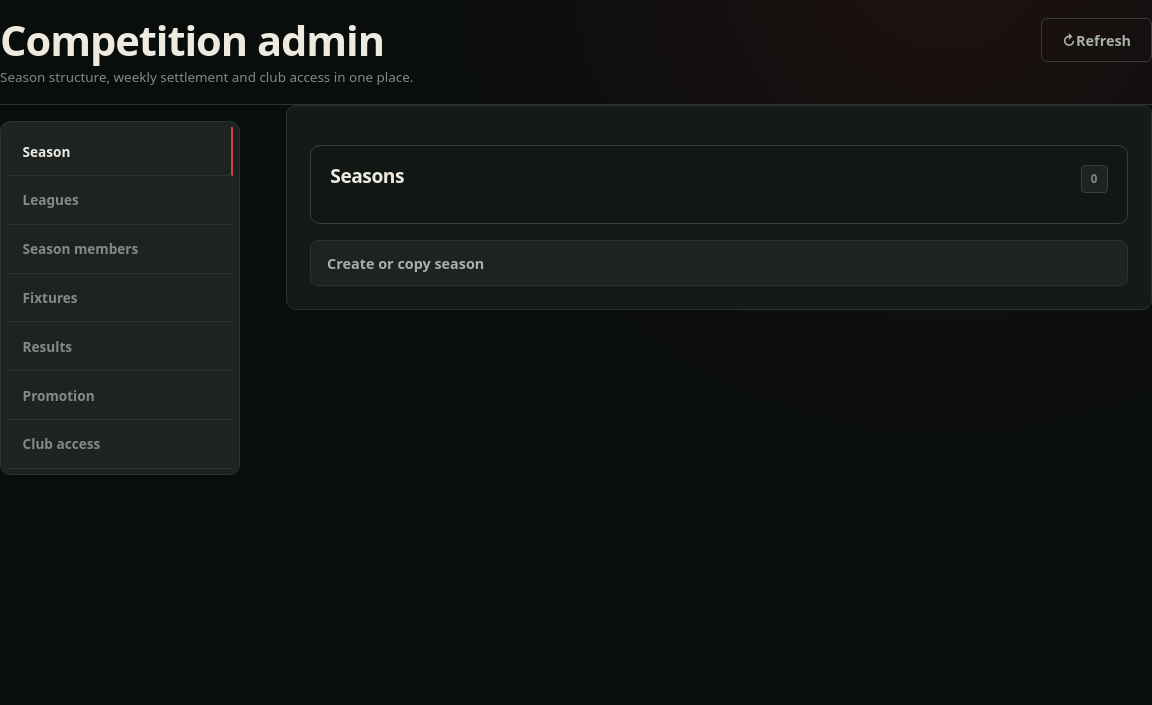
ADM-009 master administrator UI protection › shows a protected master administrator but does not offer destructive role/status controls
Click the tab "Club access". click: (120, 444)
box: left=7, top=420, right=233, bottom=469
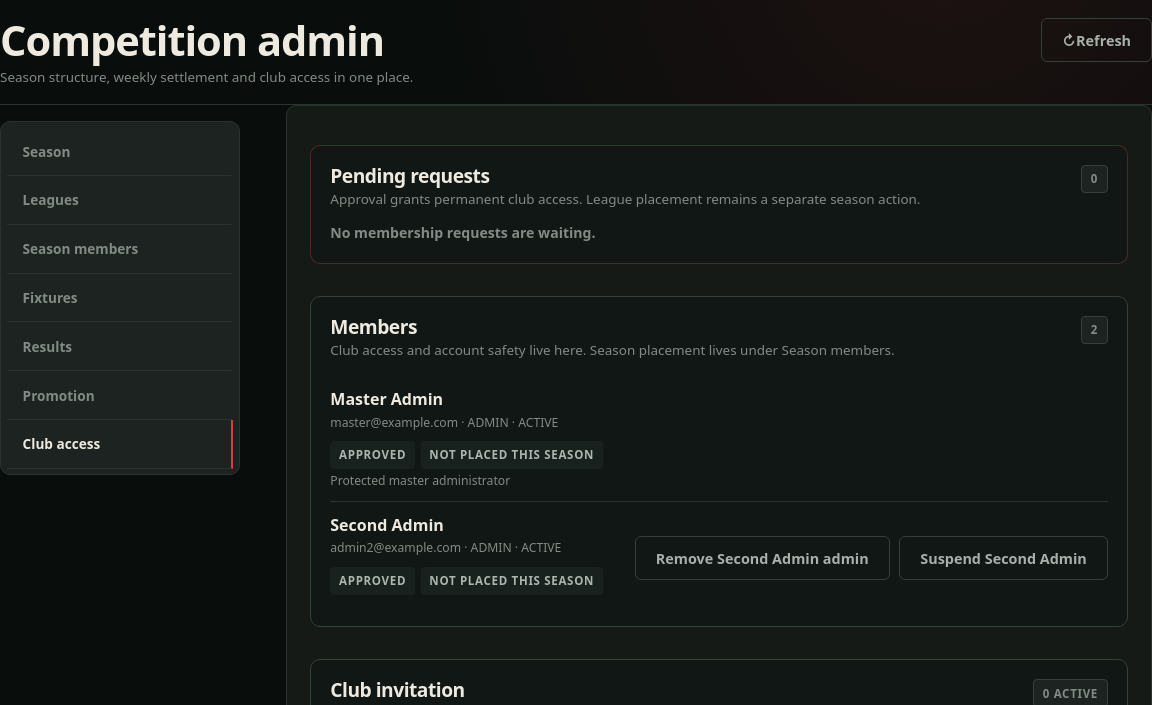
expect the text "master@example.com · ADMIN · ACTIVE" is shown: met, box left=330, top=414, right=558, bottom=431
expect the text "Protected master administrator" is shown: met, box left=330, top=472, right=510, bottom=489
